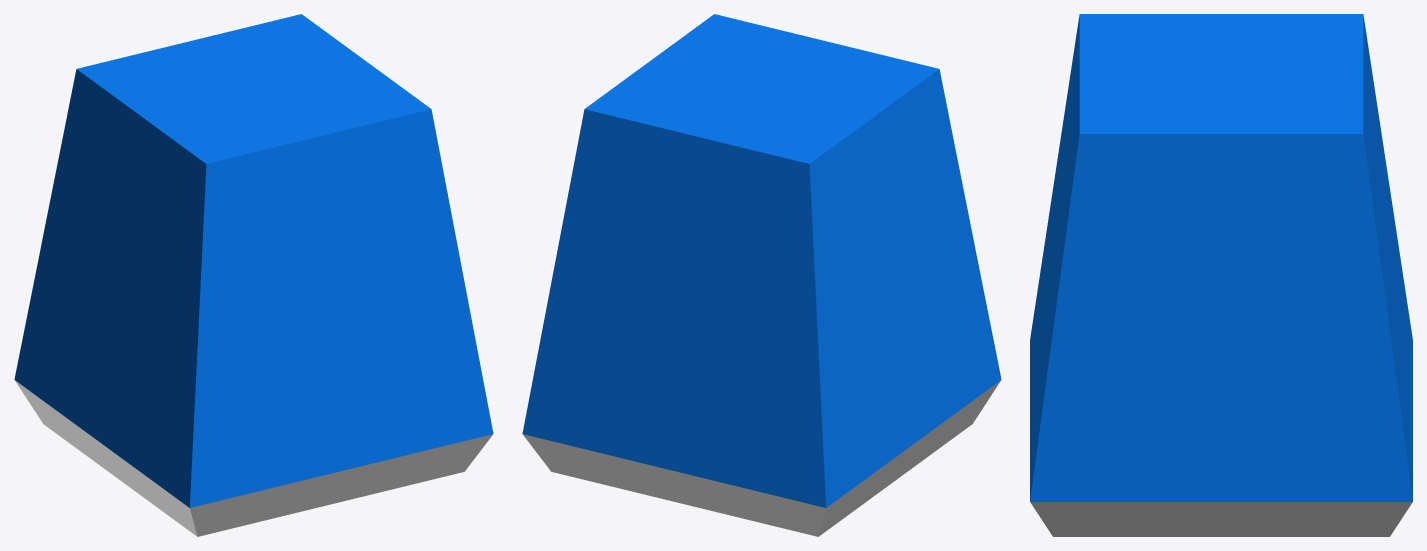
File: Blue_pipe.fbx
3 renders of one model, left to right at view 1: azimuth 30°, elevation 25°; view 2: azimuth 150°, elevation 25°; view 3: azimuth 270°, elevation 25°, orthographic. The views are drawn at different scales.
Visible parts, largest first — view 1: Cube.006; view 2: Cube.006; view 3: Cube.006.
Part boxes in pixels (x1=…): Cube.006: x1=14, y1=14, x2=493, y2=536; Cube.006: x1=522, y1=14, x2=1001, y2=536; Cube.006: x1=1030, y1=14, x2=1412, y2=536.
Size of the model in its own units: 200 by 226 by 200.
